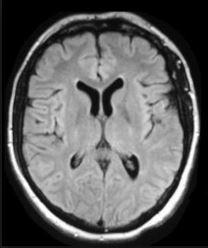Normal_Brain: (1, 3, 208, 248)
